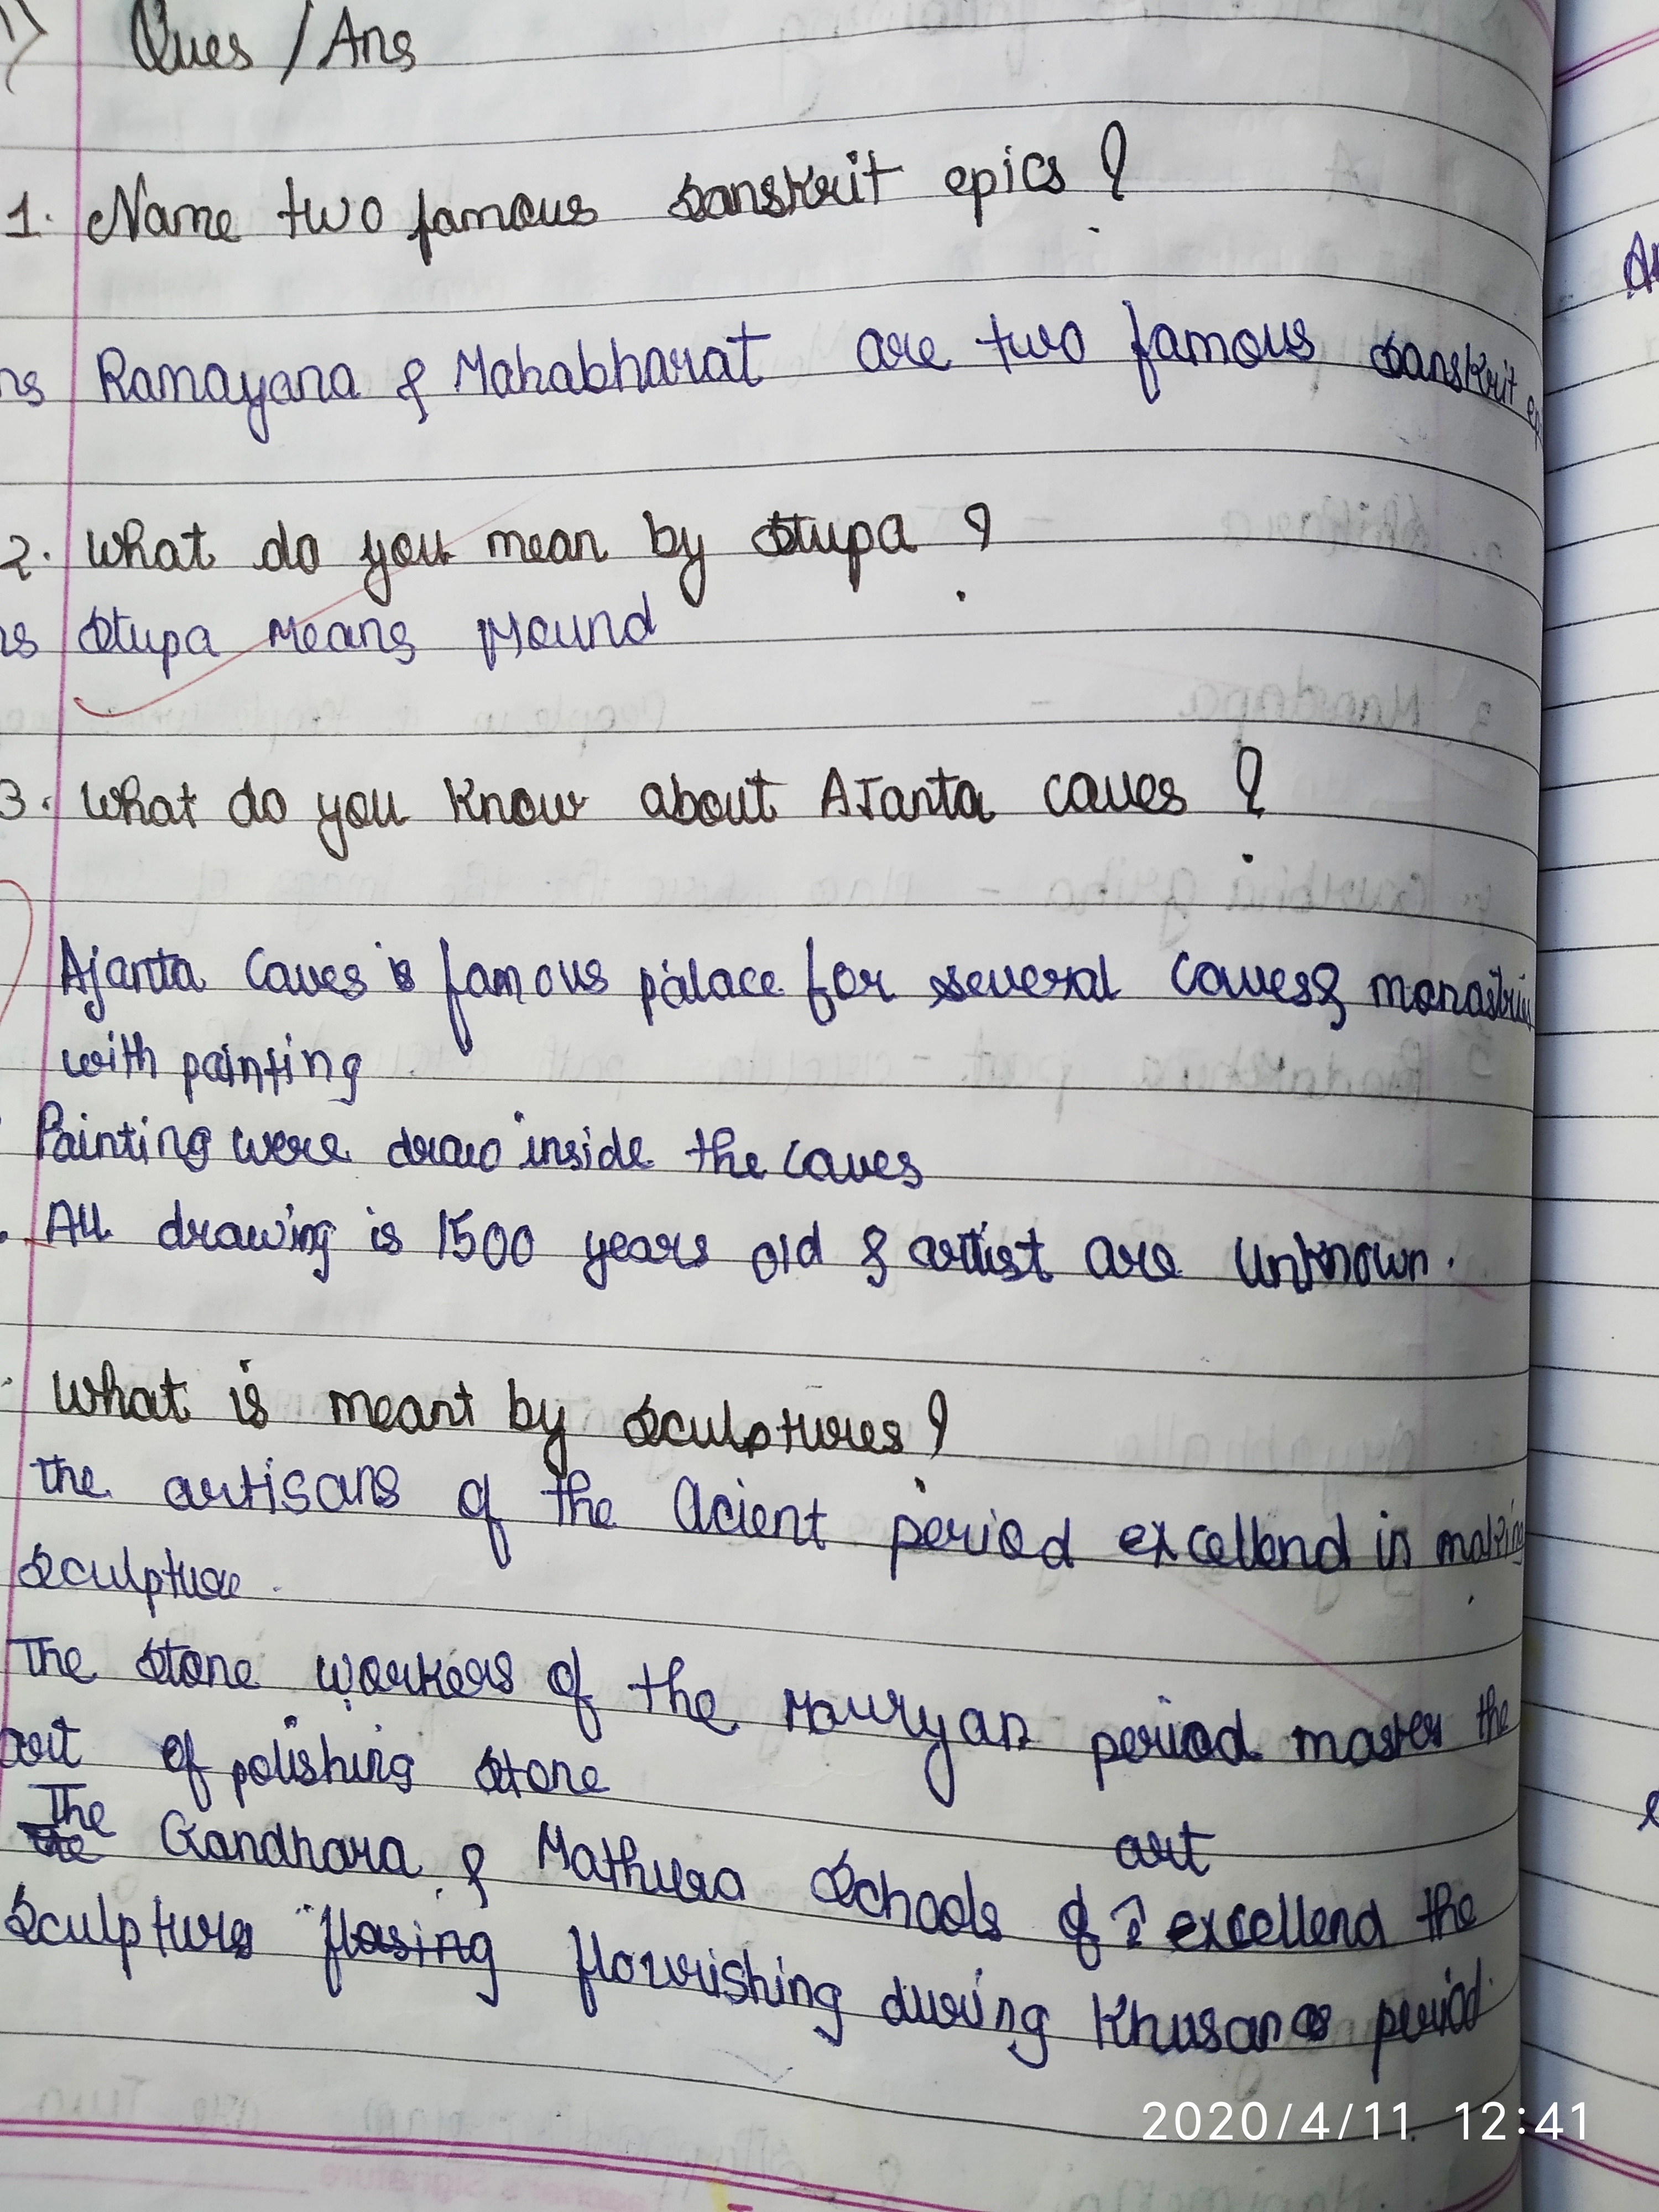A: (819, 765, 852, 819), (44, 1198, 78, 1249)
K: (441, 773, 477, 822), (1464, 341, 1486, 395)
M: (451, 343, 490, 395)
N: (106, 169, 146, 244)
R: (94, 343, 127, 404)
a: (856, 326, 885, 373), (200, 361, 234, 402), (701, 343, 734, 383), (328, 361, 361, 399), (1150, 320, 1182, 361), (544, 361, 577, 395), (143, 200, 173, 239), (640, 780, 667, 820), (150, 536, 181, 571), (261, 960, 293, 995), (878, 786, 908, 822), (129, 364, 157, 402), (545, 526, 573, 564), (183, 624, 214, 657), (324, 620, 356, 653), (146, 794, 178, 827), (213, 1219, 244, 1252), (268, 369, 296, 406), (103, 954, 131, 989), (51, 1132, 77, 1163)
b: (575, 338, 608, 394)
c: (1019, 150, 1046, 192)
d: (155, 1198, 186, 1251), (598, 1125, 624, 1170)
e: (213, 207, 242, 244), (943, 164, 969, 197), (1018, 963, 1040, 998), (1267, 967, 1288, 1003), (608, 1230, 627, 1263)
h: (608, 336, 643, 394), (512, 343, 544, 394)
i: (842, 148, 866, 206), (518, 1109, 540, 1167), (75, 1111, 96, 1162), (105, 1029, 120, 1073)
m: (155, 362, 200, 402), (171, 202, 214, 240), (1368, 972, 1406, 1010), (484, 528, 526, 561)
n: (584, 610, 619, 648), (295, 364, 326, 404), (356, 617, 385, 653), (477, 792, 507, 826), (94, 1130, 120, 1160)
o: (1229, 326, 1262, 369), (343, 789, 369, 831), (389, 531, 415, 568)
p: (843, 519, 877, 594), (969, 164, 999, 230)
qqbslash: (1276, 2102, 1293, 2141), (1337, 2102, 1354, 2141)
qqcolon: (1514, 2101, 1528, 2141)
qqfive: (448, 1207, 477, 1263)
qqfour: (1300, 2101, 1331, 2141), (1535, 2101, 1565, 2141)
qqone: (1391, 2101, 1410, 2142), (1364, 2101, 1382, 2142), (1455, 2101, 1473, 2142), (1570, 2101, 1588, 2141)
qqtwo: (1141, 2101, 1169, 2141), (1208, 2101, 1234, 2141), (1481, 2101, 1506, 2141)
qqzero: (1173, 2101, 1204, 2142), (1239, 2101, 1270, 2141)
s: (1157, 777, 1188, 817), (10, 620, 40, 660)
t: (732, 319, 758, 388), (281, 174, 303, 239), (183, 521, 209, 571), (932, 765, 953, 819), (176, 780, 199, 829)
u: (1103, 770, 1134, 813), (551, 611, 586, 650), (369, 787, 401, 829), (416, 528, 448, 568), (1262, 319, 1291, 359), (1237, 963, 1269, 1000), (809, 521, 840, 556), (535, 195, 565, 228), (723, 786, 748, 826), (127, 622, 155, 653)
w: (230, 1123, 272, 1169), (303, 195, 352, 233), (1007, 322, 1054, 361), (246, 1219, 288, 1252)
y: (678, 526, 709, 611), (315, 789, 350, 862), (239, 368, 270, 444), (582, 1228, 610, 1292)
